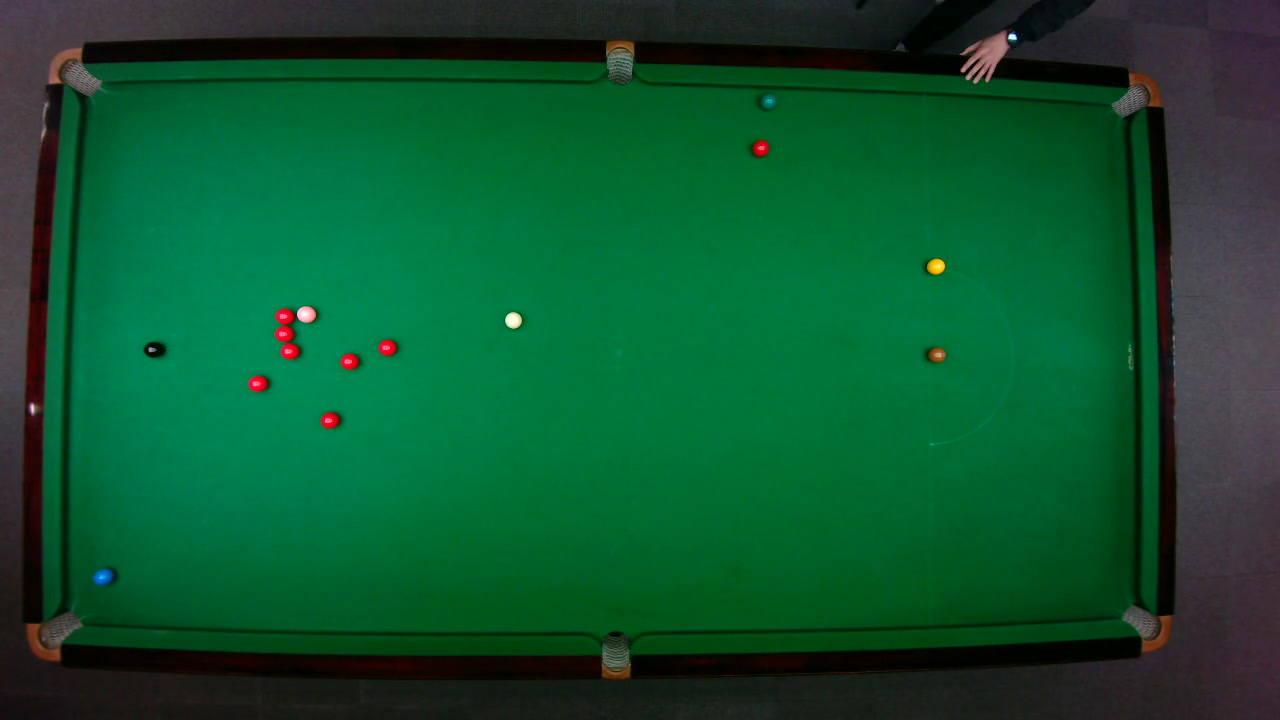bag: (24, 609, 84, 661), (45, 46, 102, 96), (1119, 603, 1172, 652), (1108, 71, 1161, 117), (600, 629, 629, 680), (605, 38, 633, 85)
black: (142, 340, 164, 357)
blue: (91, 566, 114, 585)
brown: (926, 346, 946, 362)
green: (758, 93, 776, 110)
pink: (294, 304, 317, 323)
red: (246, 373, 269, 392), (318, 410, 340, 429), (278, 341, 300, 359), (750, 138, 770, 157), (338, 351, 359, 369), (273, 306, 294, 324), (272, 325, 294, 342), (377, 338, 397, 356)
white: (503, 310, 522, 329)
yellow: (924, 257, 946, 275)
zone: (927, 266, 1013, 445)
